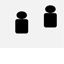human: (13, 9, 29, 35), (43, 3, 58, 29)
